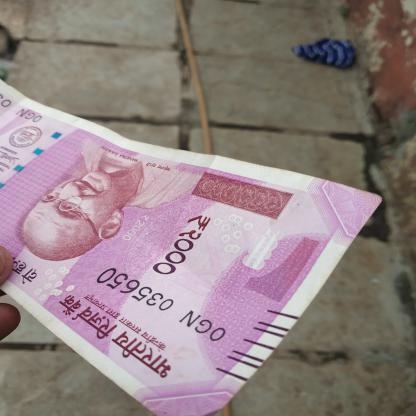New2000Front: (0, 73, 381, 416)
